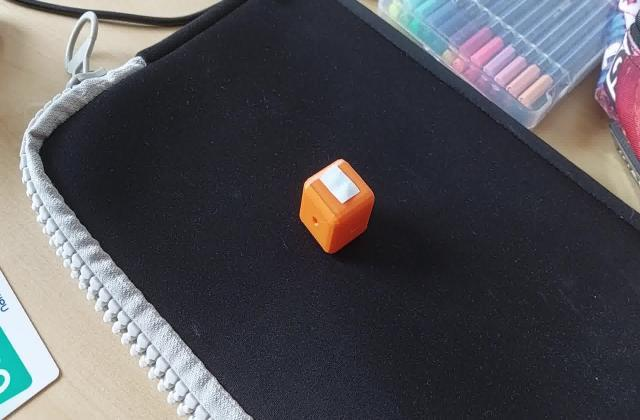sticker: (299, 157, 379, 257)
white: (324, 174, 363, 204)
